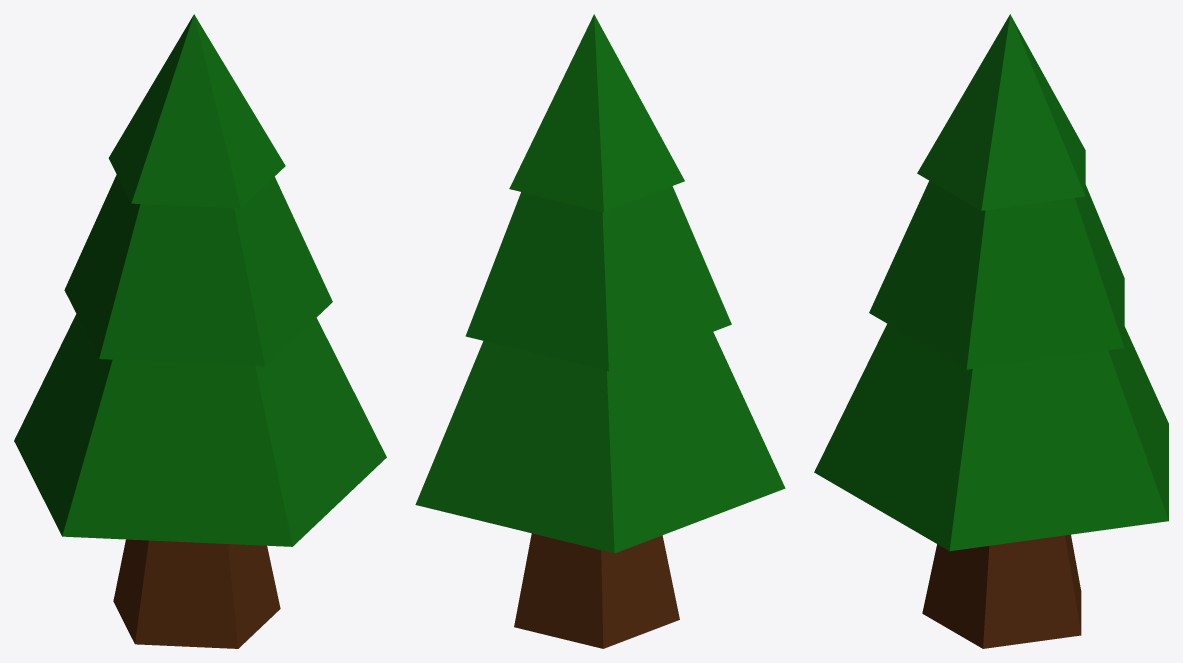
The model's file is Tree02.fbx.
The picture shows the model from 3 angles, left to right: view 1: azimuth 30°, elevation 25°; view 2: azimuth 150°, elevation 25°; view 3: azimuth 270°, elevation 25°; orthographic projection.
Visible parts, largest first — view 1: Circle; view 2: Circle; view 3: Circle.
Boxes of the visible parts, <box> form: Circle: <box>14,14,386,648</box>; Circle: <box>415,14,785,648</box>; Circle: <box>814,14,1168,648</box>.
Bounding box in the file's own units: 1.78 × 3.16 × 1.69.
